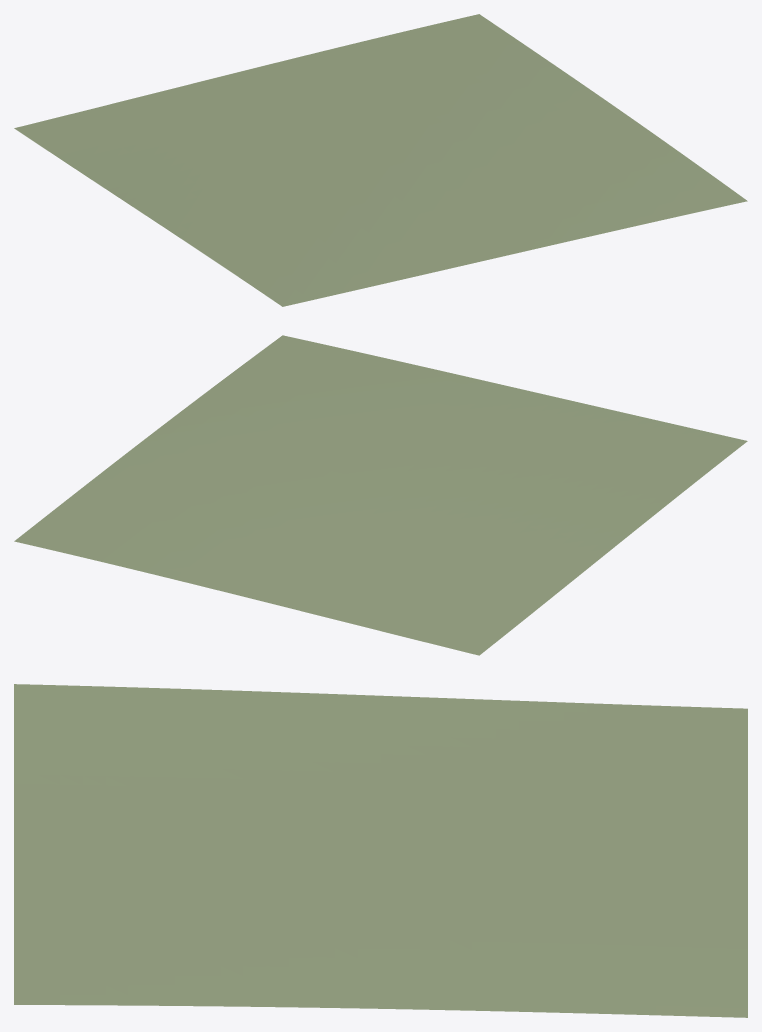
File: expanse-1-23.glb
3 views of the same model, one above another, from view 1: azimuth 30°, elevation 25°; view 2: azimuth 150°, elevation 25°; view 3: azimuth 270°, elevation 25° (orthographic). The views are drawn at different scales.
Visible parts, largest first — view 1: expanse-1-23; view 2: expanse-1-23; view 3: expanse-1-23.
Boxes of the visible parts, box(x1,y1,x2,y2) form: expanse-1-23: box(14, 14, 747, 306); expanse-1-23: box(14, 335, 747, 655); expanse-1-23: box(14, 684, 747, 1017).
Size of the model in its own units: 256 by 9.45 by 256.
